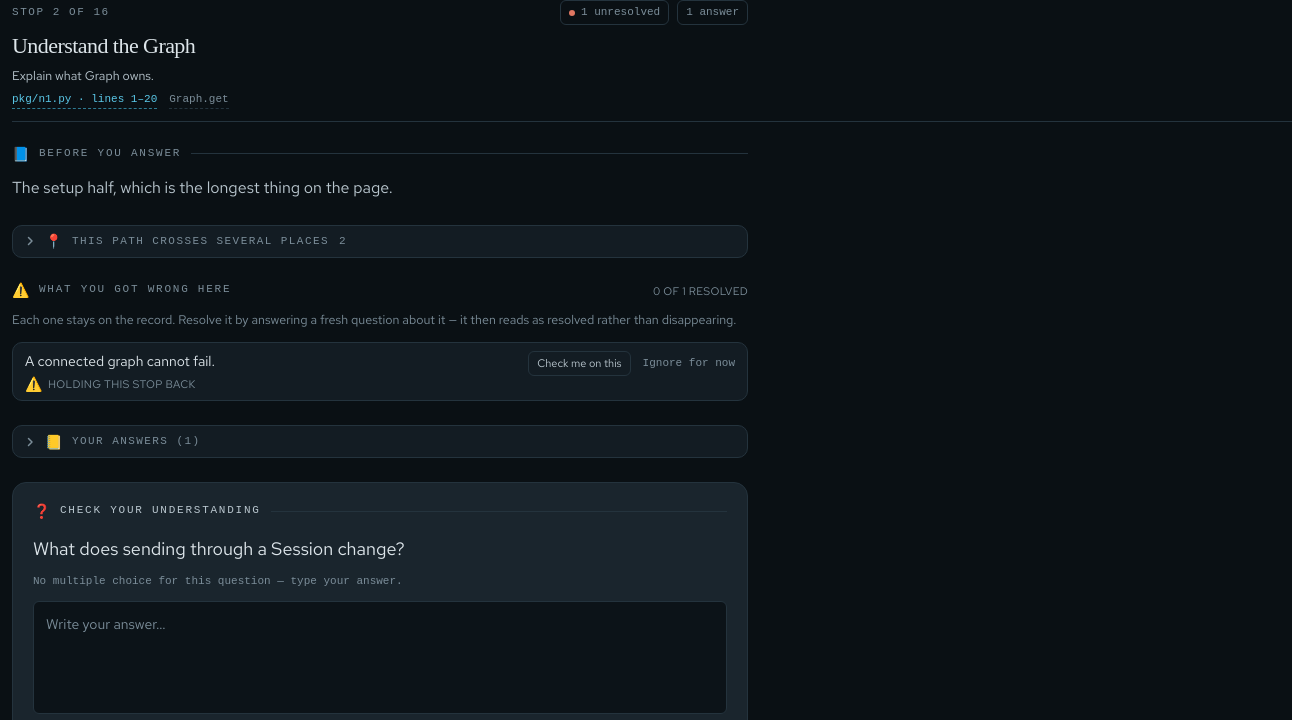
Test case: VERIFY and RESOLVED › VERIFY asks again with one composer and no verdict
This screenshot has width=1292, height=720.
Expected: the text "What does sending through a Session change?" is shown, x1=33 y1=537 x2=405 y2=560
In the text box with placeholder "Write your answer…": [380, 658] box x1=33 y1=601 x2=727 y2=714, type "A wrong answer."
(page scrolled)
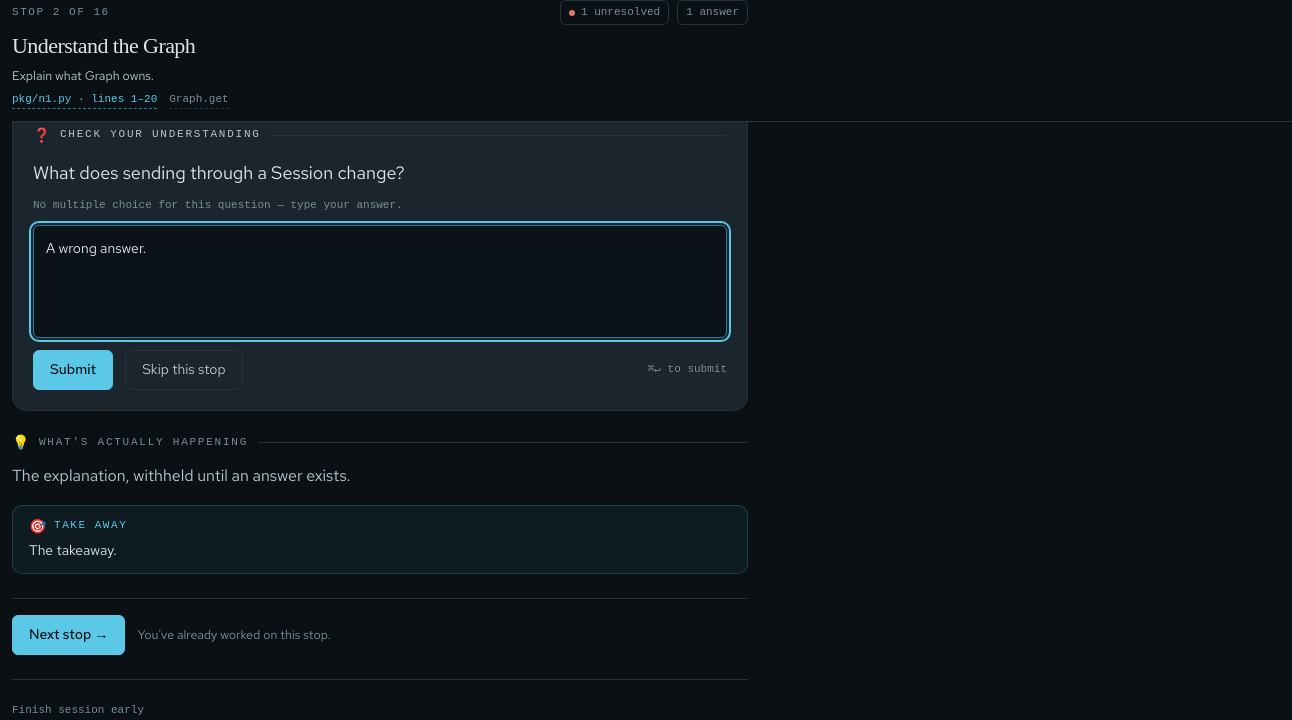
Click the button "Submit": [73, 370] box x1=33 y1=350 x2=113 y2=390
(page scrolled)
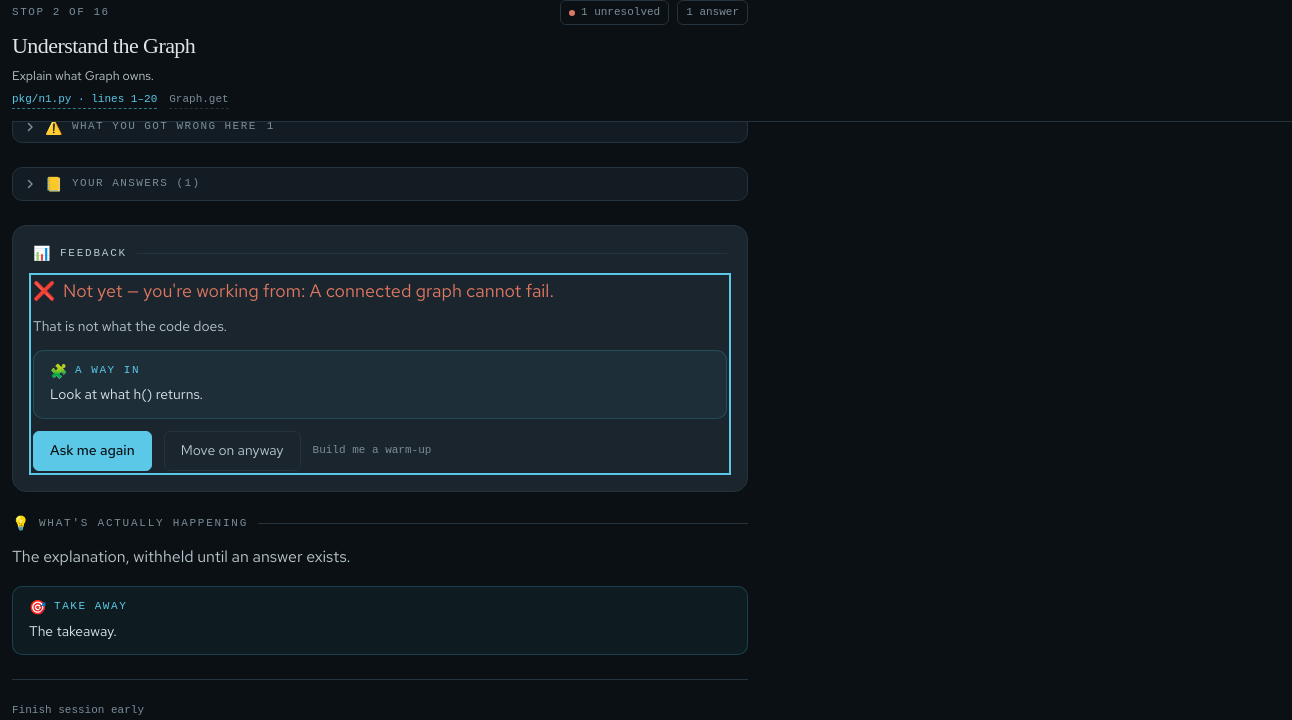
Click the button "Ask me again": [92, 451] box x1=33 y1=431 x2=152 y2=471
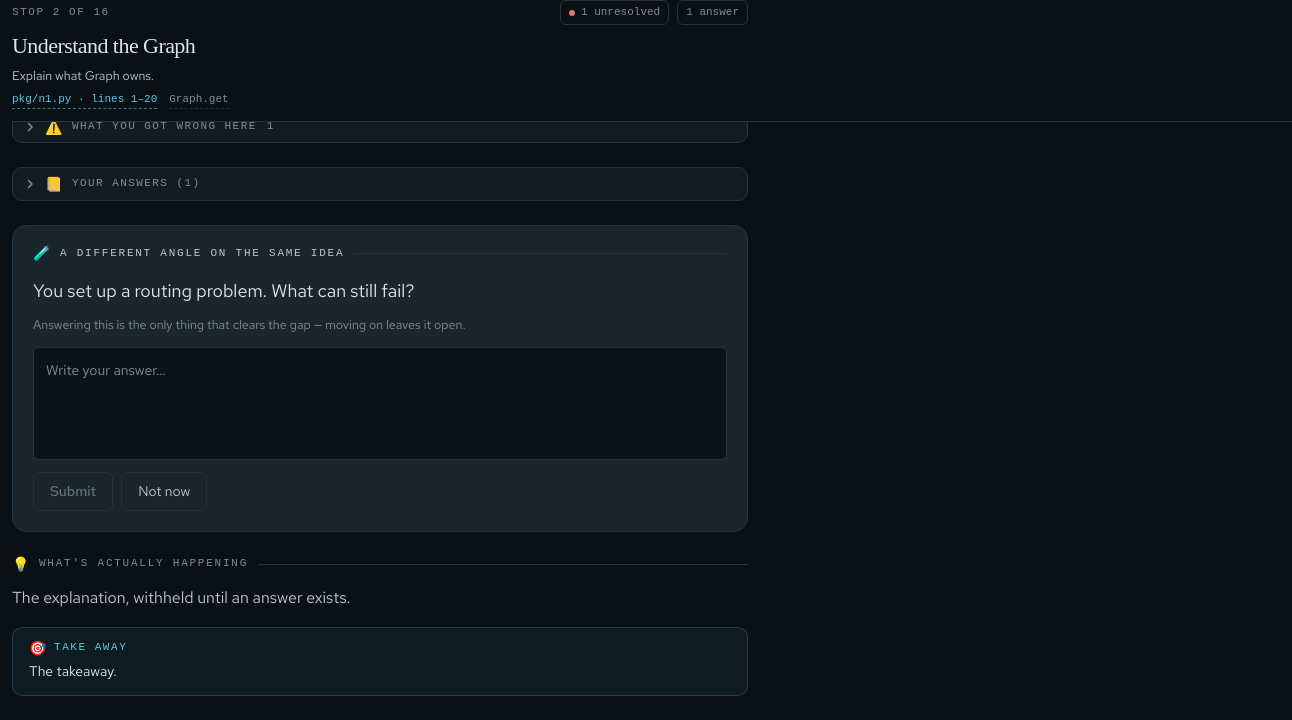
Now the text "You set up a routing problem. What can still fail?" is shown, box x1=33 y1=279 x2=414 y2=302
Now the number of text boxes with placeholder "Write your answer…" is 1, box x1=33 y1=347 x2=727 y2=460
Now the text "That is not what the code does." is gone
